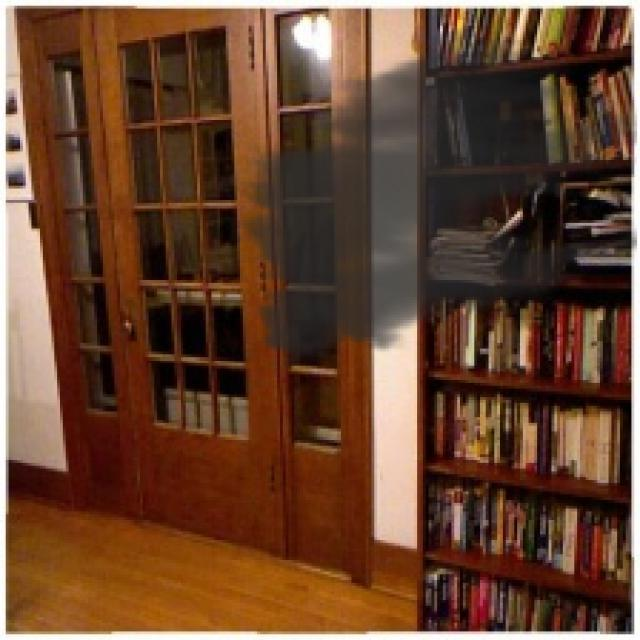Smoke: (220, 17, 637, 377)
